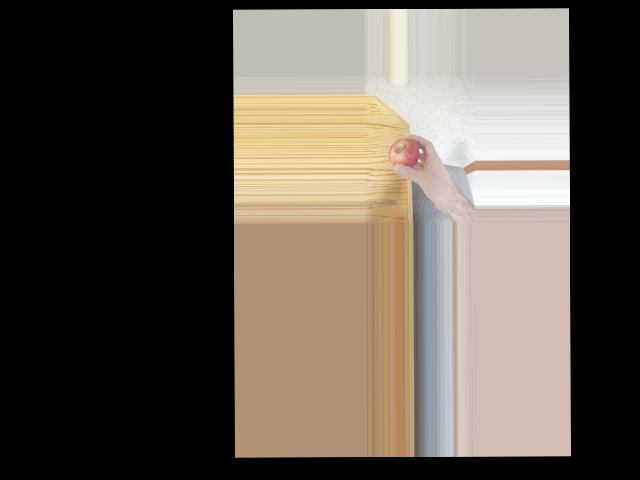apple: (389, 135, 420, 173)
